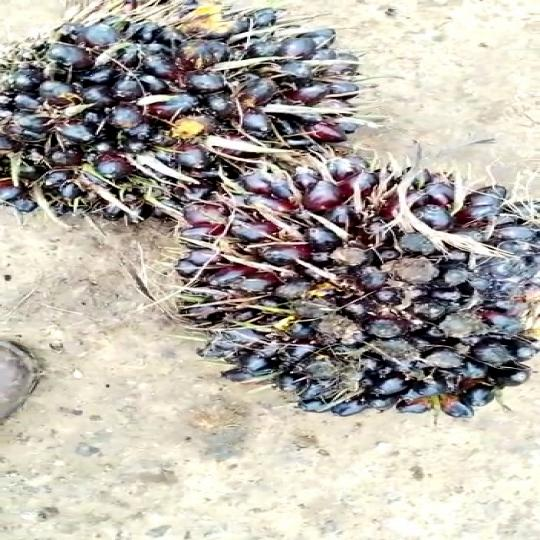mentah: (190, 144, 526, 407), (0, 0, 373, 201)
